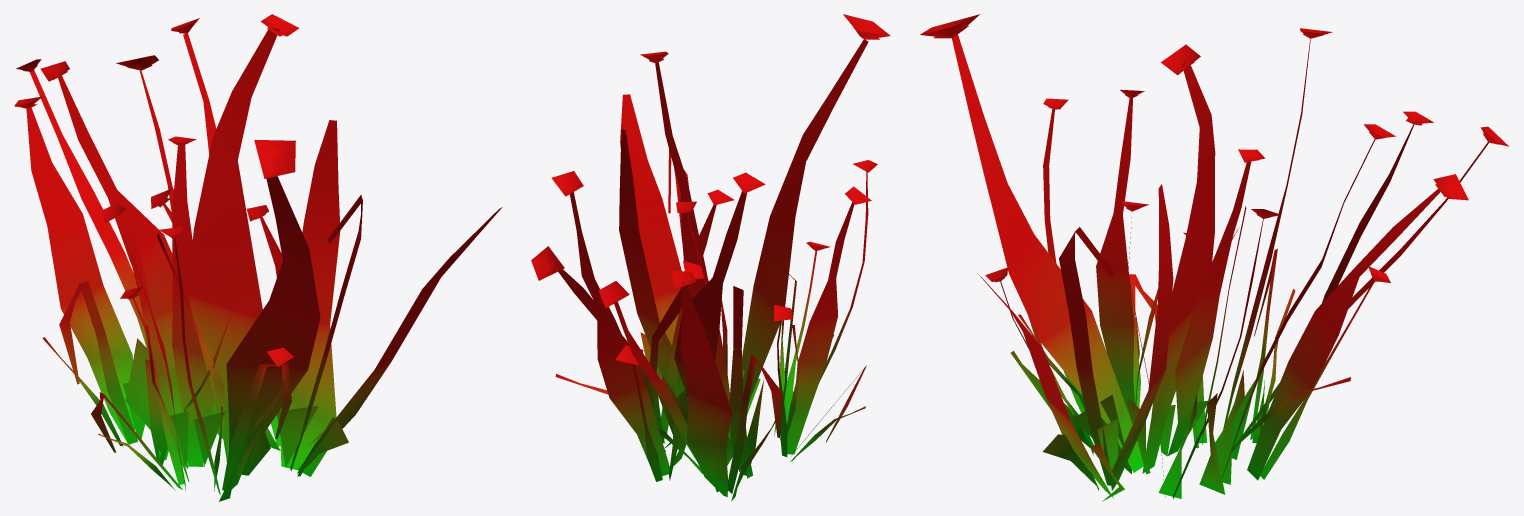
The model's file is White Everlasting_LOD4_Var4_ucvobbbia.fbx.
3 views of the same model, side by side, from view 1: azimuth 30°, elevation 25°; view 2: azimuth 150°, elevation 25°; view 3: azimuth 270°, elevation 25° (orthographic). The views are drawn at different scales.
Parts seen in each view (by area): view 1: _a9e0_Var4_LOD4; view 2: _a9e0_Var4_LOD4; view 3: _a9e0_Var4_LOD4.
Part boxes in pixels (bbox=[...]): _a9e0_Var4_LOD4: bbox=[14, 14, 502, 501]; _a9e0_Var4_LOD4: bbox=[531, 14, 890, 501]; _a9e0_Var4_LOD4: bbox=[920, 14, 1508, 501].
Bounding box in the file's own units: 47.33 × 58.34 × 68.95.
